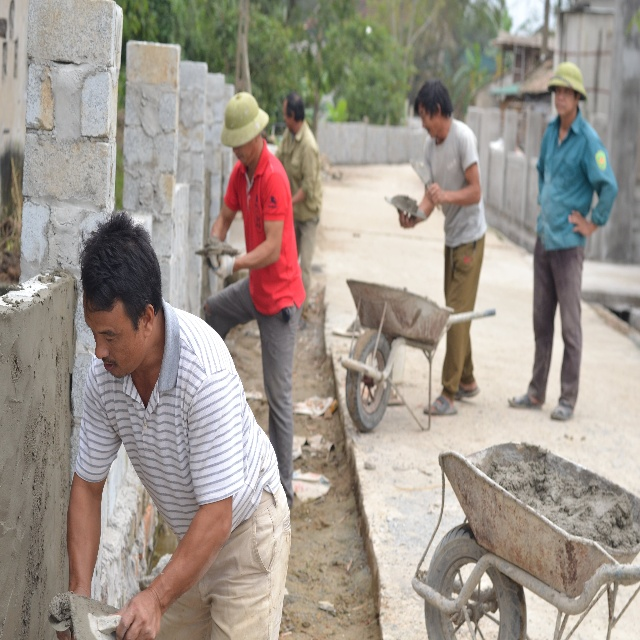Guantes: (217, 255, 234, 276)
Sin_guantes: (112, 585, 162, 640), (569, 209, 597, 234), (426, 181, 442, 205), (398, 208, 417, 228)
